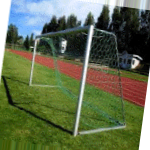goals: (29, 24, 131, 139)
